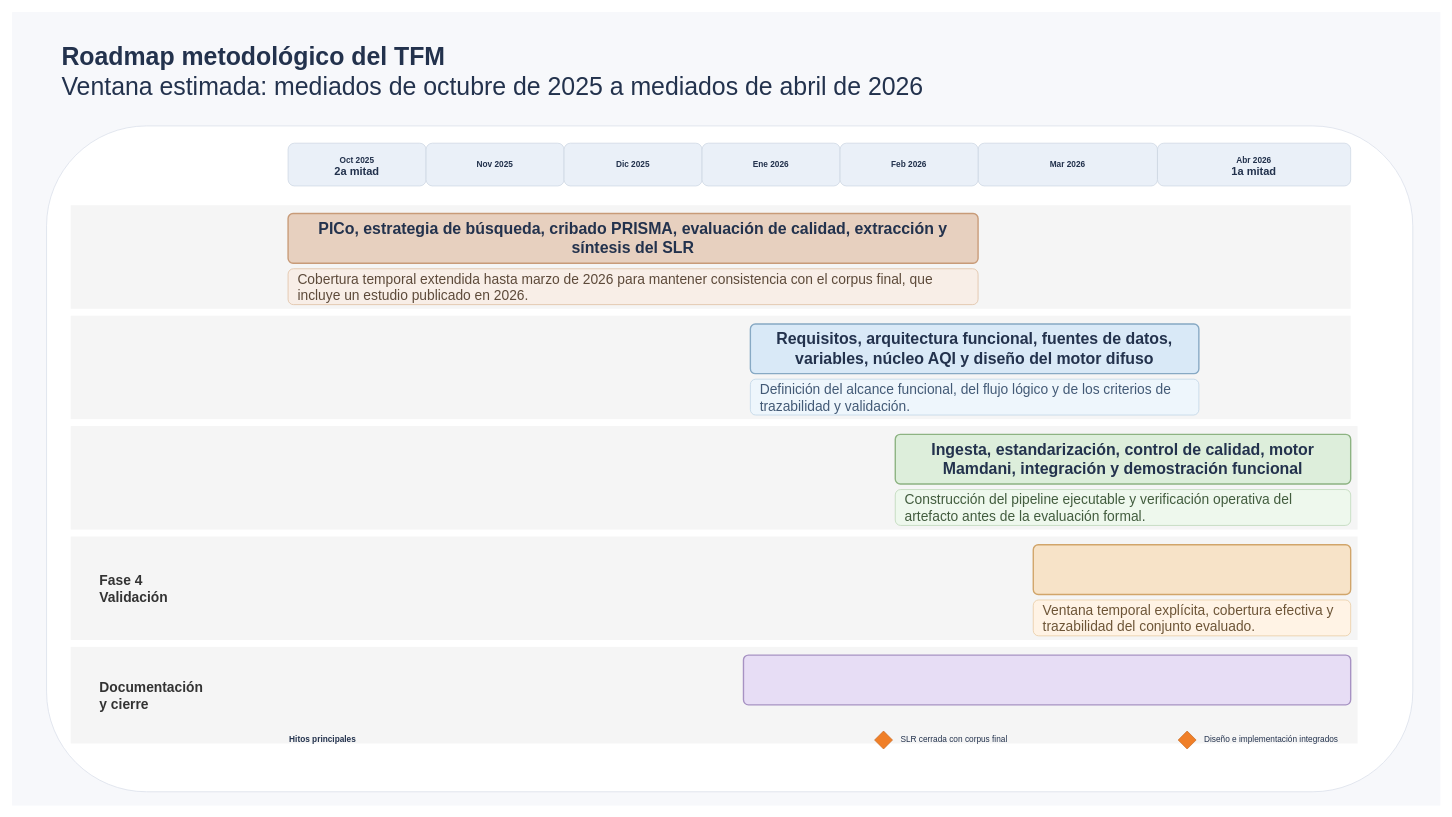
The diagram is 1452 pixels wide and 817 high, and some of its shapes have lost their labels. The shapes that lost their labels are listed below. From the top down, each one's box as (x1, y1, x2, y2) in pixels, then its label:
(70, 205, 1350, 308): Fase 1 Revisión sistemática
(70, 315, 1350, 419): Fase 2 Diseño del módulo
(70, 426, 1357, 529): Fase 3 Implementación
(1032, 544, 1351, 595): Escenarios nominales, casos de alerta, faltantes, métricas, análisis y ajustes
(742, 654, 1351, 705): Memoria, resultados, conclusiones, figuras y revisión final
